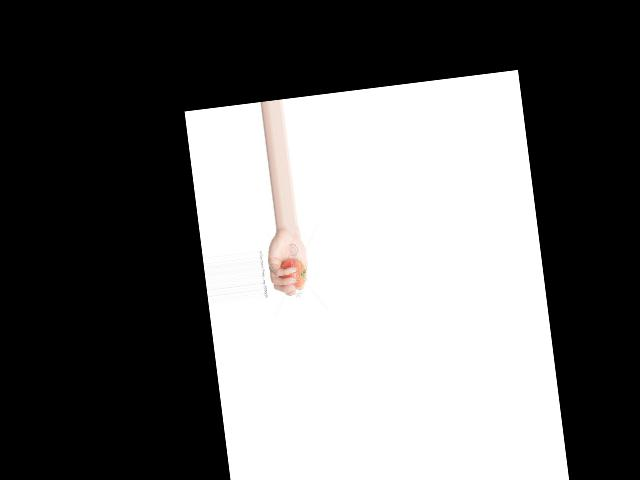tomato: (278, 258, 307, 291)
